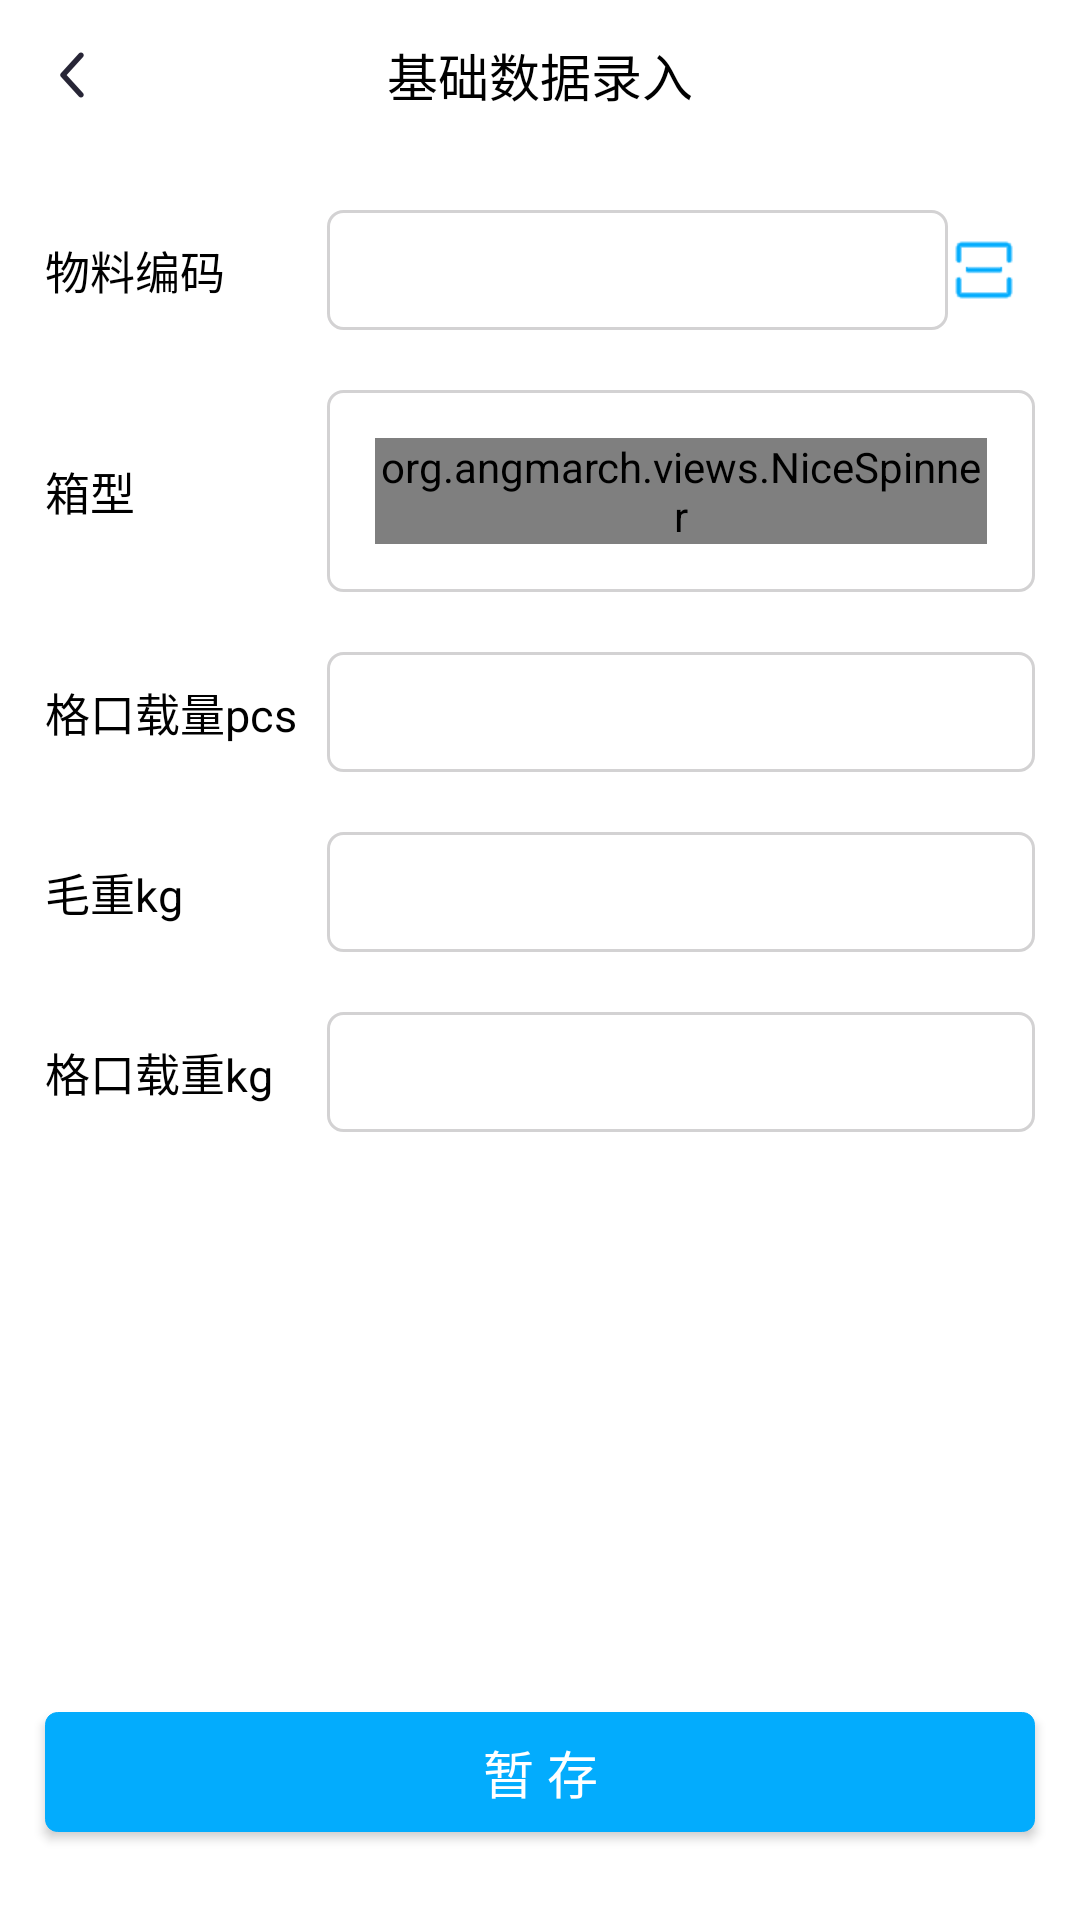

Locate icon controls on the screen. Image size 1080w x 1920h, boxes as [x1,y1,x2,y2].
back: [60,52,84,98]
scan: [955,241,1013,299]
